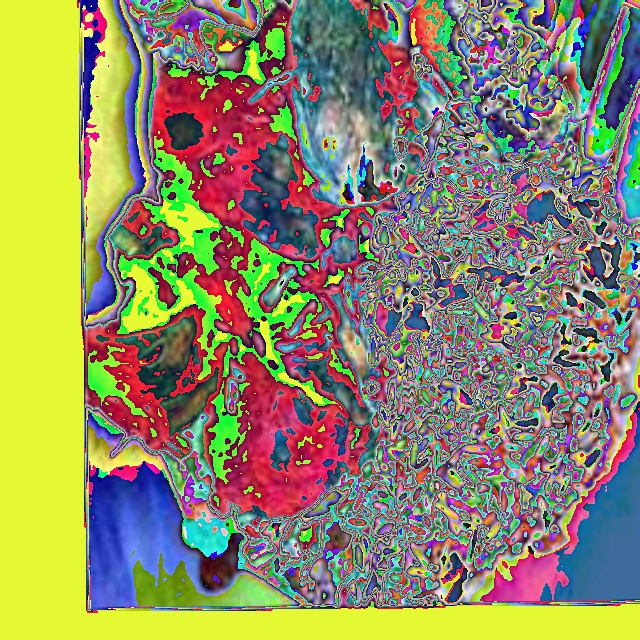background: (85, 0, 639, 608)
